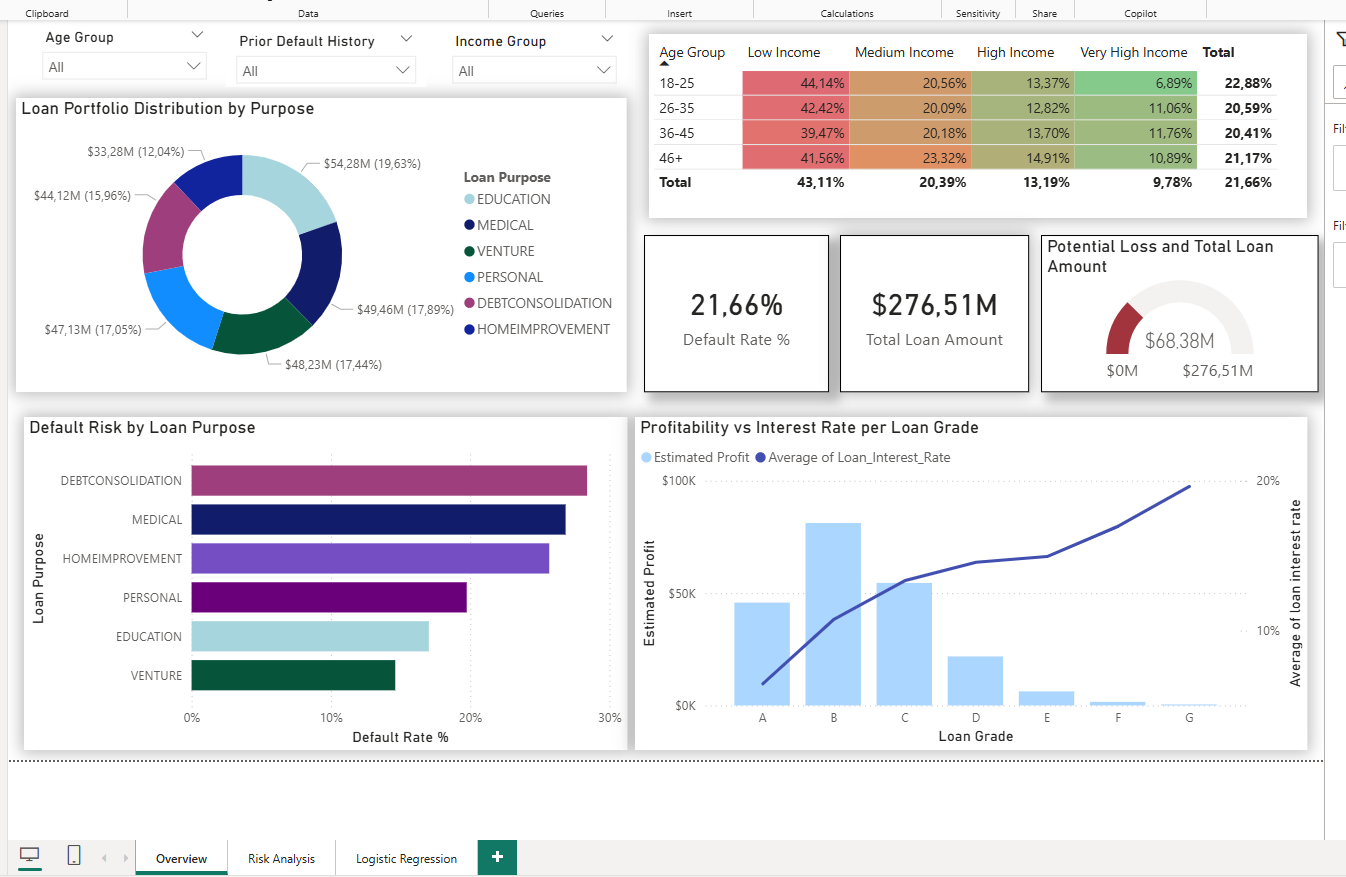

Layout of this report page (visuals, bound fields, positions):
{"tool":"powerbi","page":{"name":"Overview","canvas":[1280,720],"ordinal":0},"visuals":[{"type":"card","fields":{"Values":["credit_risk_dataset.Default Rate %"]},"box":[618.6,209.1,179.9,152.7],"z":0},{"type":"card","fields":{"Values":["credit_risk_dataset.Total Loan Amount"]},"box":[809.2,209.1,183.8,152.7],"z":1000},{"type":"clusteredBarChart","title":"Default Risk by Loan Purpose","fields":{"Category":["credit_risk_dataset.loan_intent"],"Y":["credit_risk_dataset.Default Rate %"]},"box":[15.6,386.1,586.5,323.9],"z":2000},{"type":"slicer","fields":{"Values":["credit_risk_dataset.Age Group"]},"box":[23.3,2.9,179.9,65.2],"z":3000},{"type":"slicer","fields":{"Values":["credit_risk_dataset.Income Group"]},"box":[422.1,6.8,179.9,65.2],"z":4000},{"type":"donutChart","title":"Loan Portfolio Distribution by Purpose","fields":{"Category":["credit_risk_dataset.loan_intent"],"Y":["credit_risk_dataset.Total Loan Amount"]},"box":[7.8,75.9,594.3,286],"z":5000},{"type":"lineStackedColumnComboChart","title":"Profitability vs Interest Rate per Loan Grade","fields":{"Category":["credit_risk_dataset.loan_grade"],"Y":["credit_risk_dataset.Estimated Profit"],"Y2":["Avg(credit_risk_dataset.loan_int_rate)"]},"box":[609.8,386.1,653.6,323.9],"z":6000},{"type":"slicer","fields":{"Values":["credit_risk_dataset.Default_on_file"]},"box":[212,6.8,194.5,58.4],"z":7000},{"type":"gauge","fields":{"Y":["credit_risk_dataset.Potential Loss"],"MaxValue":["credit_risk_dataset.Total Loan Amount"]},"box":[1004.7,209.1,270.4,152.7],"z":8000},{"type":"pivotTable","fields":{"Rows":["credit_risk_dataset.Age Group"],"Columns":["credit_risk_dataset.Income Group"],"Values":["credit_risk_dataset.Default Rate %"]},"box":[623.5,13.6,640,179],"z":9000}]}

Visuals, with their boxes on the page's 1280x720 design canvas (x1, y1, x2, y2). These are canvas units, not pixel positions in the 1346x877 screenshot, which may show the page scaled, cropped or inside an application window:
card - credit_risk_dataset.Default Rate %: (x1=619, y1=209, x2=798, y2=362)
card - credit_risk_dataset.Total Loan Amount: (x1=809, y1=209, x2=993, y2=362)
"Default Risk by Loan Purpose" clusteredBarChart: (x1=16, y1=386, x2=602, y2=710)
slicer - credit_risk_dataset.Age Group: (x1=23, y1=3, x2=203, y2=68)
slicer - credit_risk_dataset.Income Group: (x1=422, y1=7, x2=602, y2=72)
"Loan Portfolio Distribution by Purpose" donutChart: (x1=8, y1=76, x2=602, y2=362)
"Profitability vs Interest Rate per Loan Grade" lineStackedColumnComboChart: (x1=610, y1=386, x2=1263, y2=710)
slicer - credit_risk_dataset.Default_on_file: (x1=212, y1=7, x2=406, y2=65)
gauge - credit_risk_dataset.Potential Loss x credit_risk_dataset.Total Loan Amount: (x1=1005, y1=209, x2=1275, y2=362)
pivotTable - credit_risk_dataset.Age Group x credit_risk_dataset.Income Group: (x1=624, y1=14, x2=1264, y2=193)
